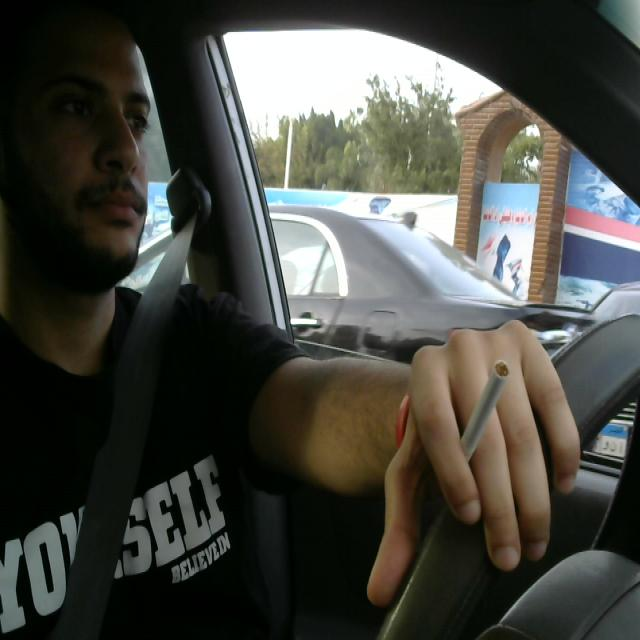smoking: (443, 356, 512, 474)
